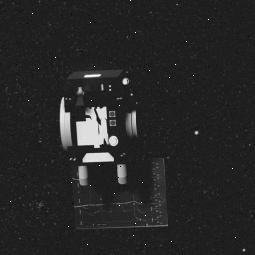proba_3_csc: (54, 63, 178, 235)
